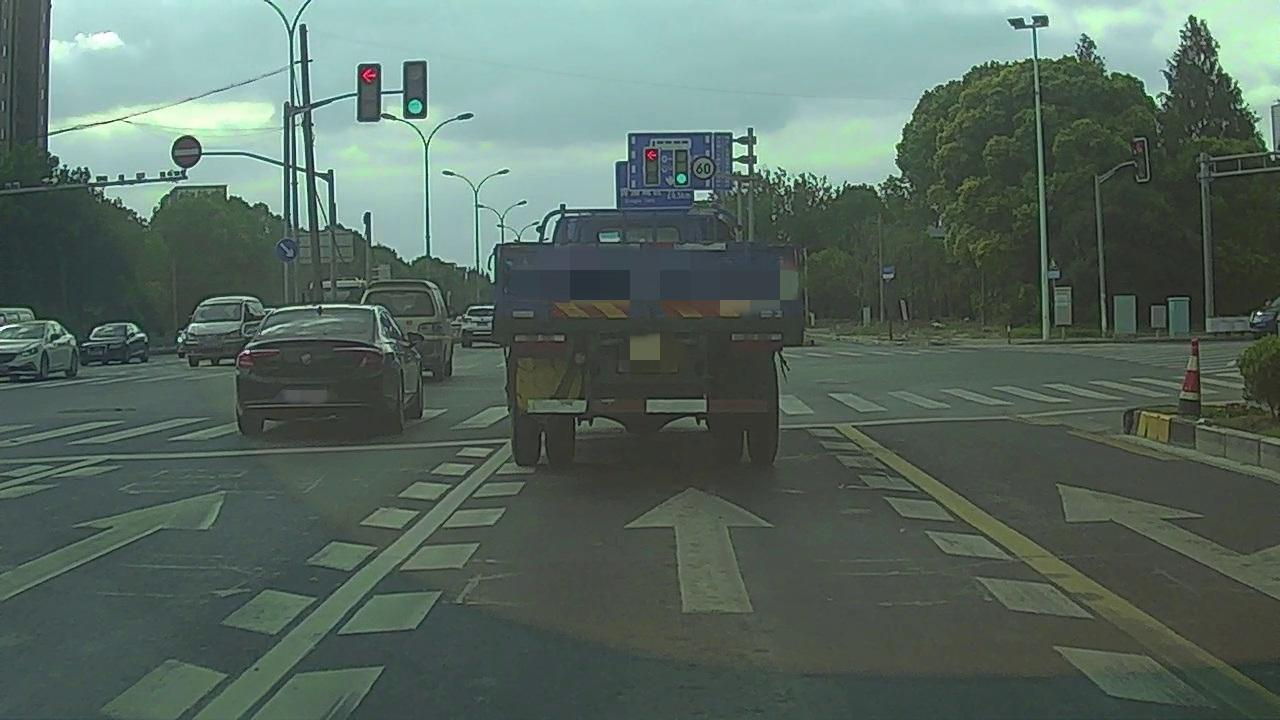traffic_light: (357, 62, 383, 122), (405, 60, 429, 118), (645, 148, 660, 186), (675, 150, 688, 185)
